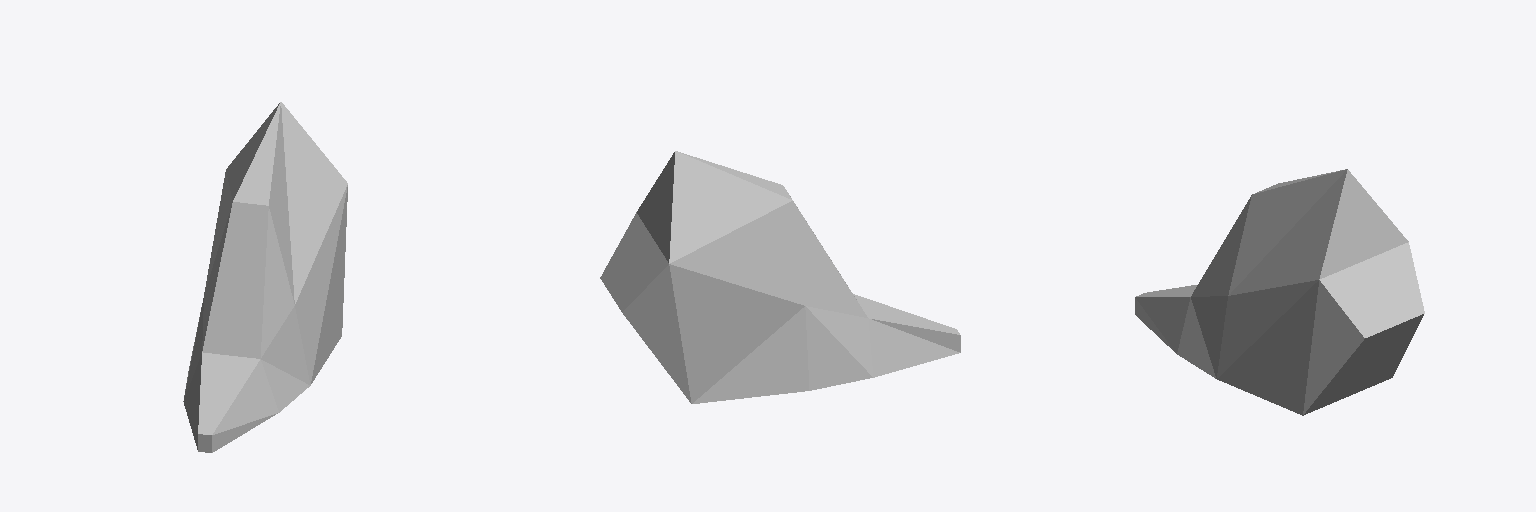
The model's file is mLv1Rock07.obj.
The picture shows the model from 3 angles: view 1: azimuth 30°, elevation 25°; view 2: azimuth 150°, elevation 25°; view 3: azimuth 270°, elevation 25°; orthographic projection.
Visible parts, largest first — view 1: mStoneBolder8; view 2: mStoneBolder8; view 3: mStoneBolder8.
Part boxes in pixels (bbox=[...]): mStoneBolder8: bbox=[183, 102, 347, 452]; mStoneBolder8: bbox=[600, 151, 960, 403]; mStoneBolder8: bbox=[1135, 169, 1424, 415].
Size of the model in its own units: 12.29 by 10.84 by 12.31.